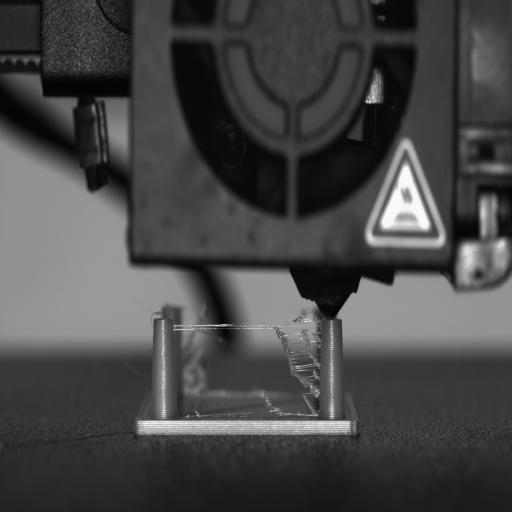spaghetti_and_stringing: (179, 305, 321, 418)
